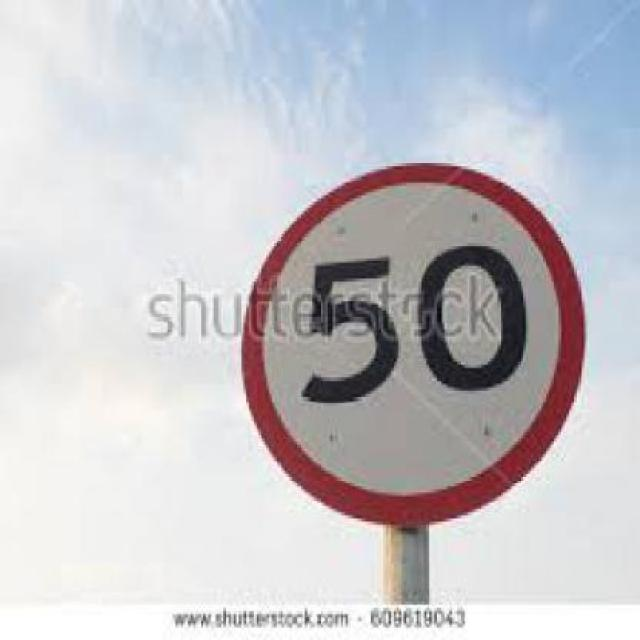speed_limit_50: (249, 172, 569, 506)
